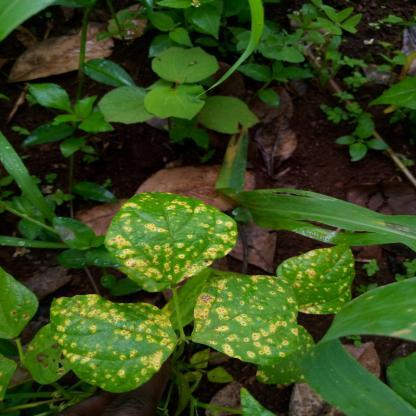Beans_Rust: (194, 275, 316, 385), (102, 192, 244, 284), (52, 292, 180, 387), (271, 237, 365, 316)
